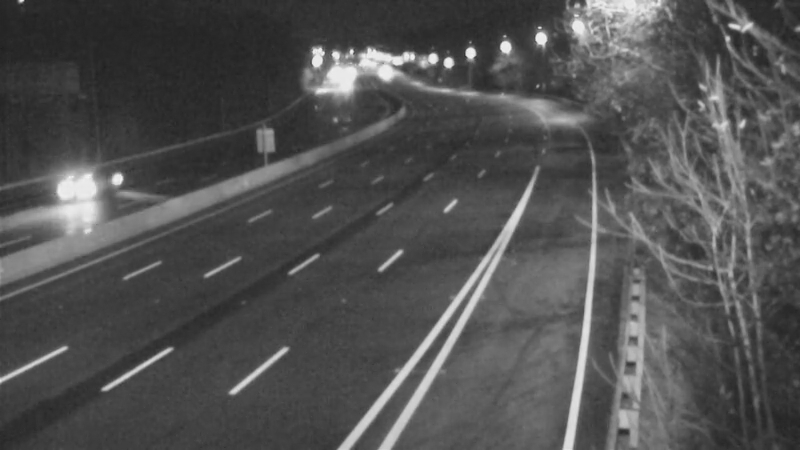vehicle: (38, 149, 118, 229)
